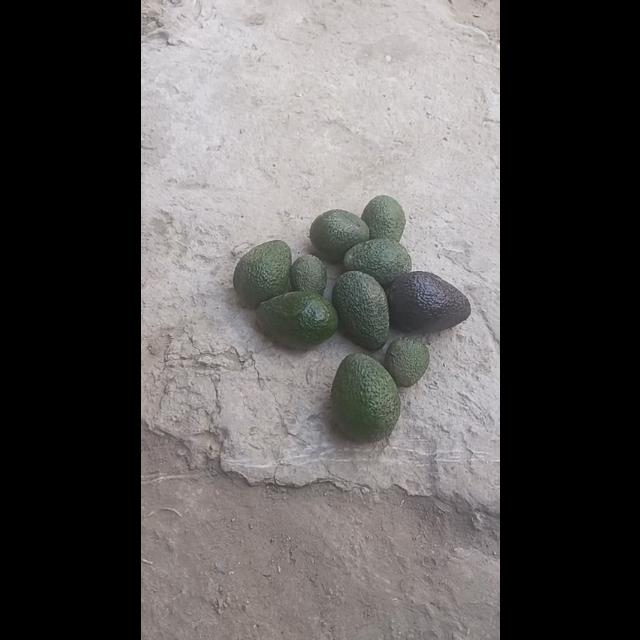Primera: (329, 352, 398, 440), (383, 270, 469, 334), (254, 289, 336, 349), (329, 270, 388, 348), (232, 240, 292, 308), (343, 238, 409, 286)
Segunda: (308, 208, 370, 262), (360, 194, 404, 242)
Tercera: (382, 336, 428, 386), (289, 252, 327, 294)
